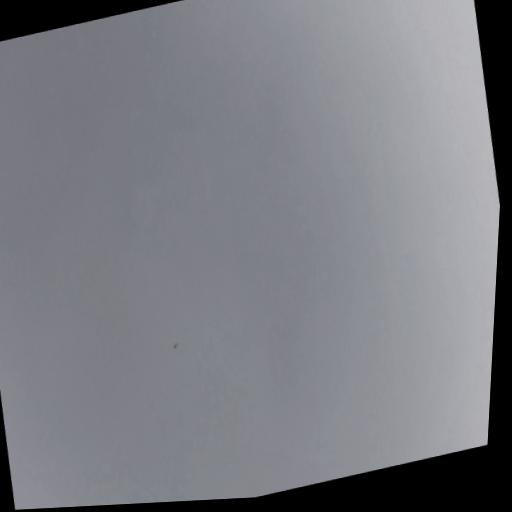drones: (171, 340, 180, 351)
